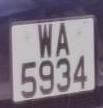3: (55, 56, 75, 97)
4: (71, 51, 91, 96)
5: (18, 56, 40, 103)
9: (38, 59, 58, 98)
A: (55, 18, 72, 64)
W: (36, 19, 56, 63)
